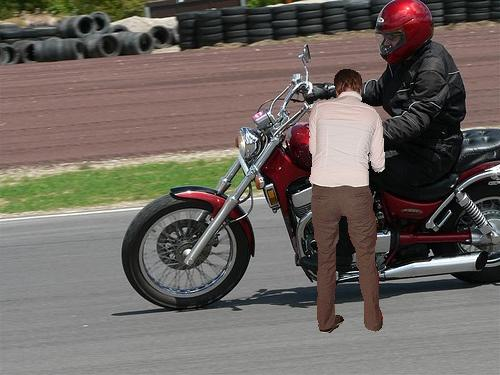tampered: (309, 70, 385, 333)
